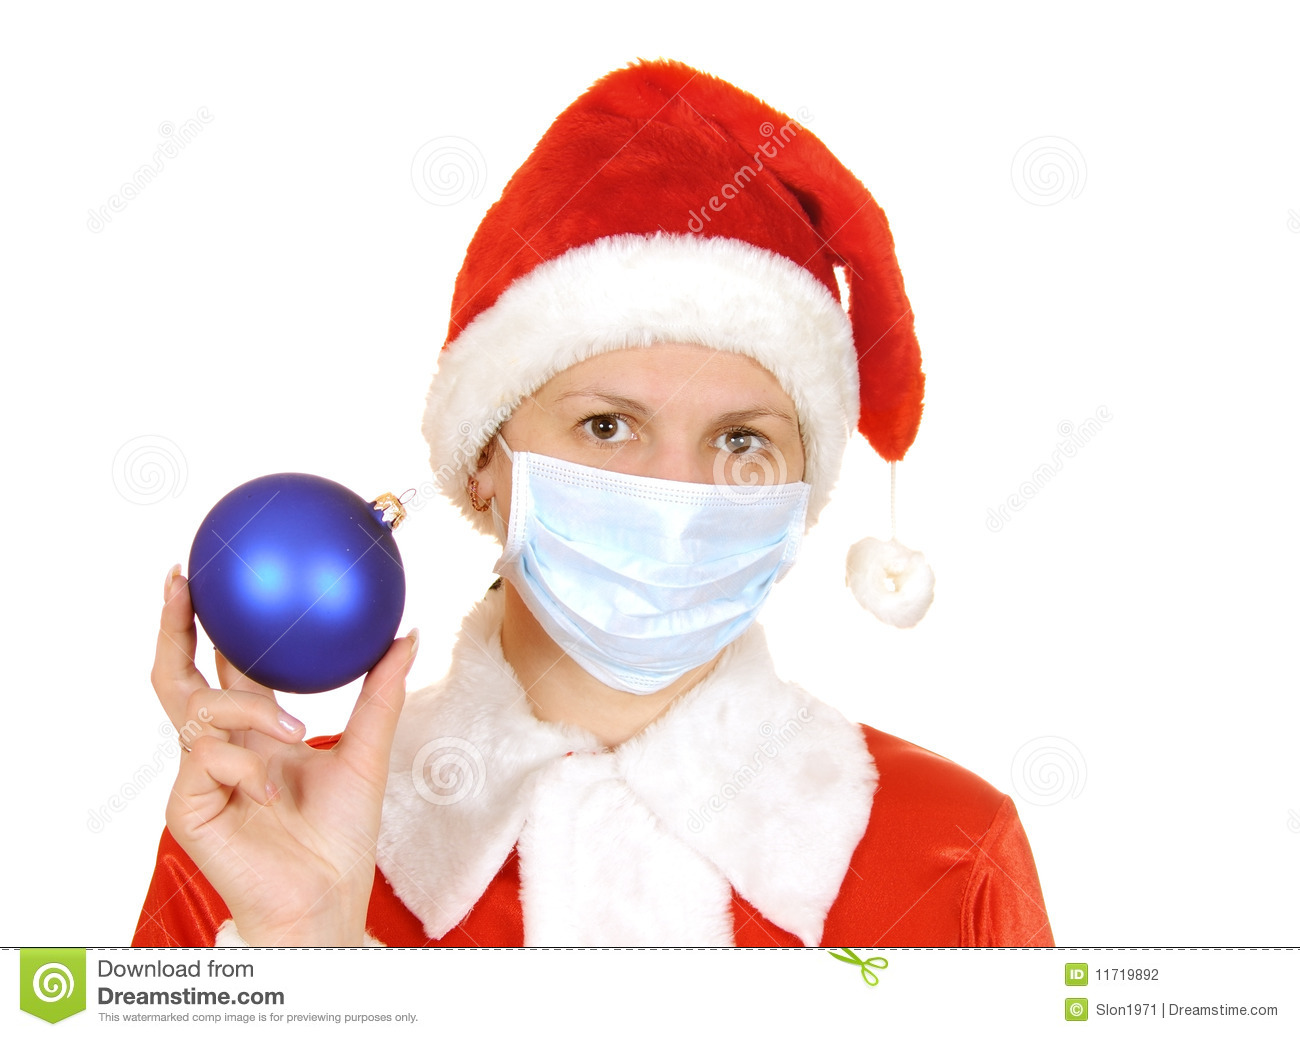mask: (497, 453, 816, 697)
